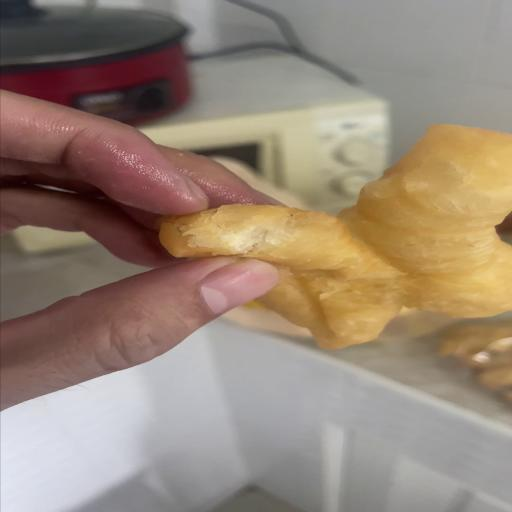street_golden_defect: (160, 125, 512, 348)
